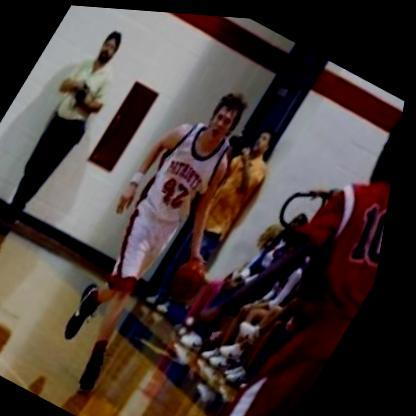basketball: (162, 242, 230, 311)
